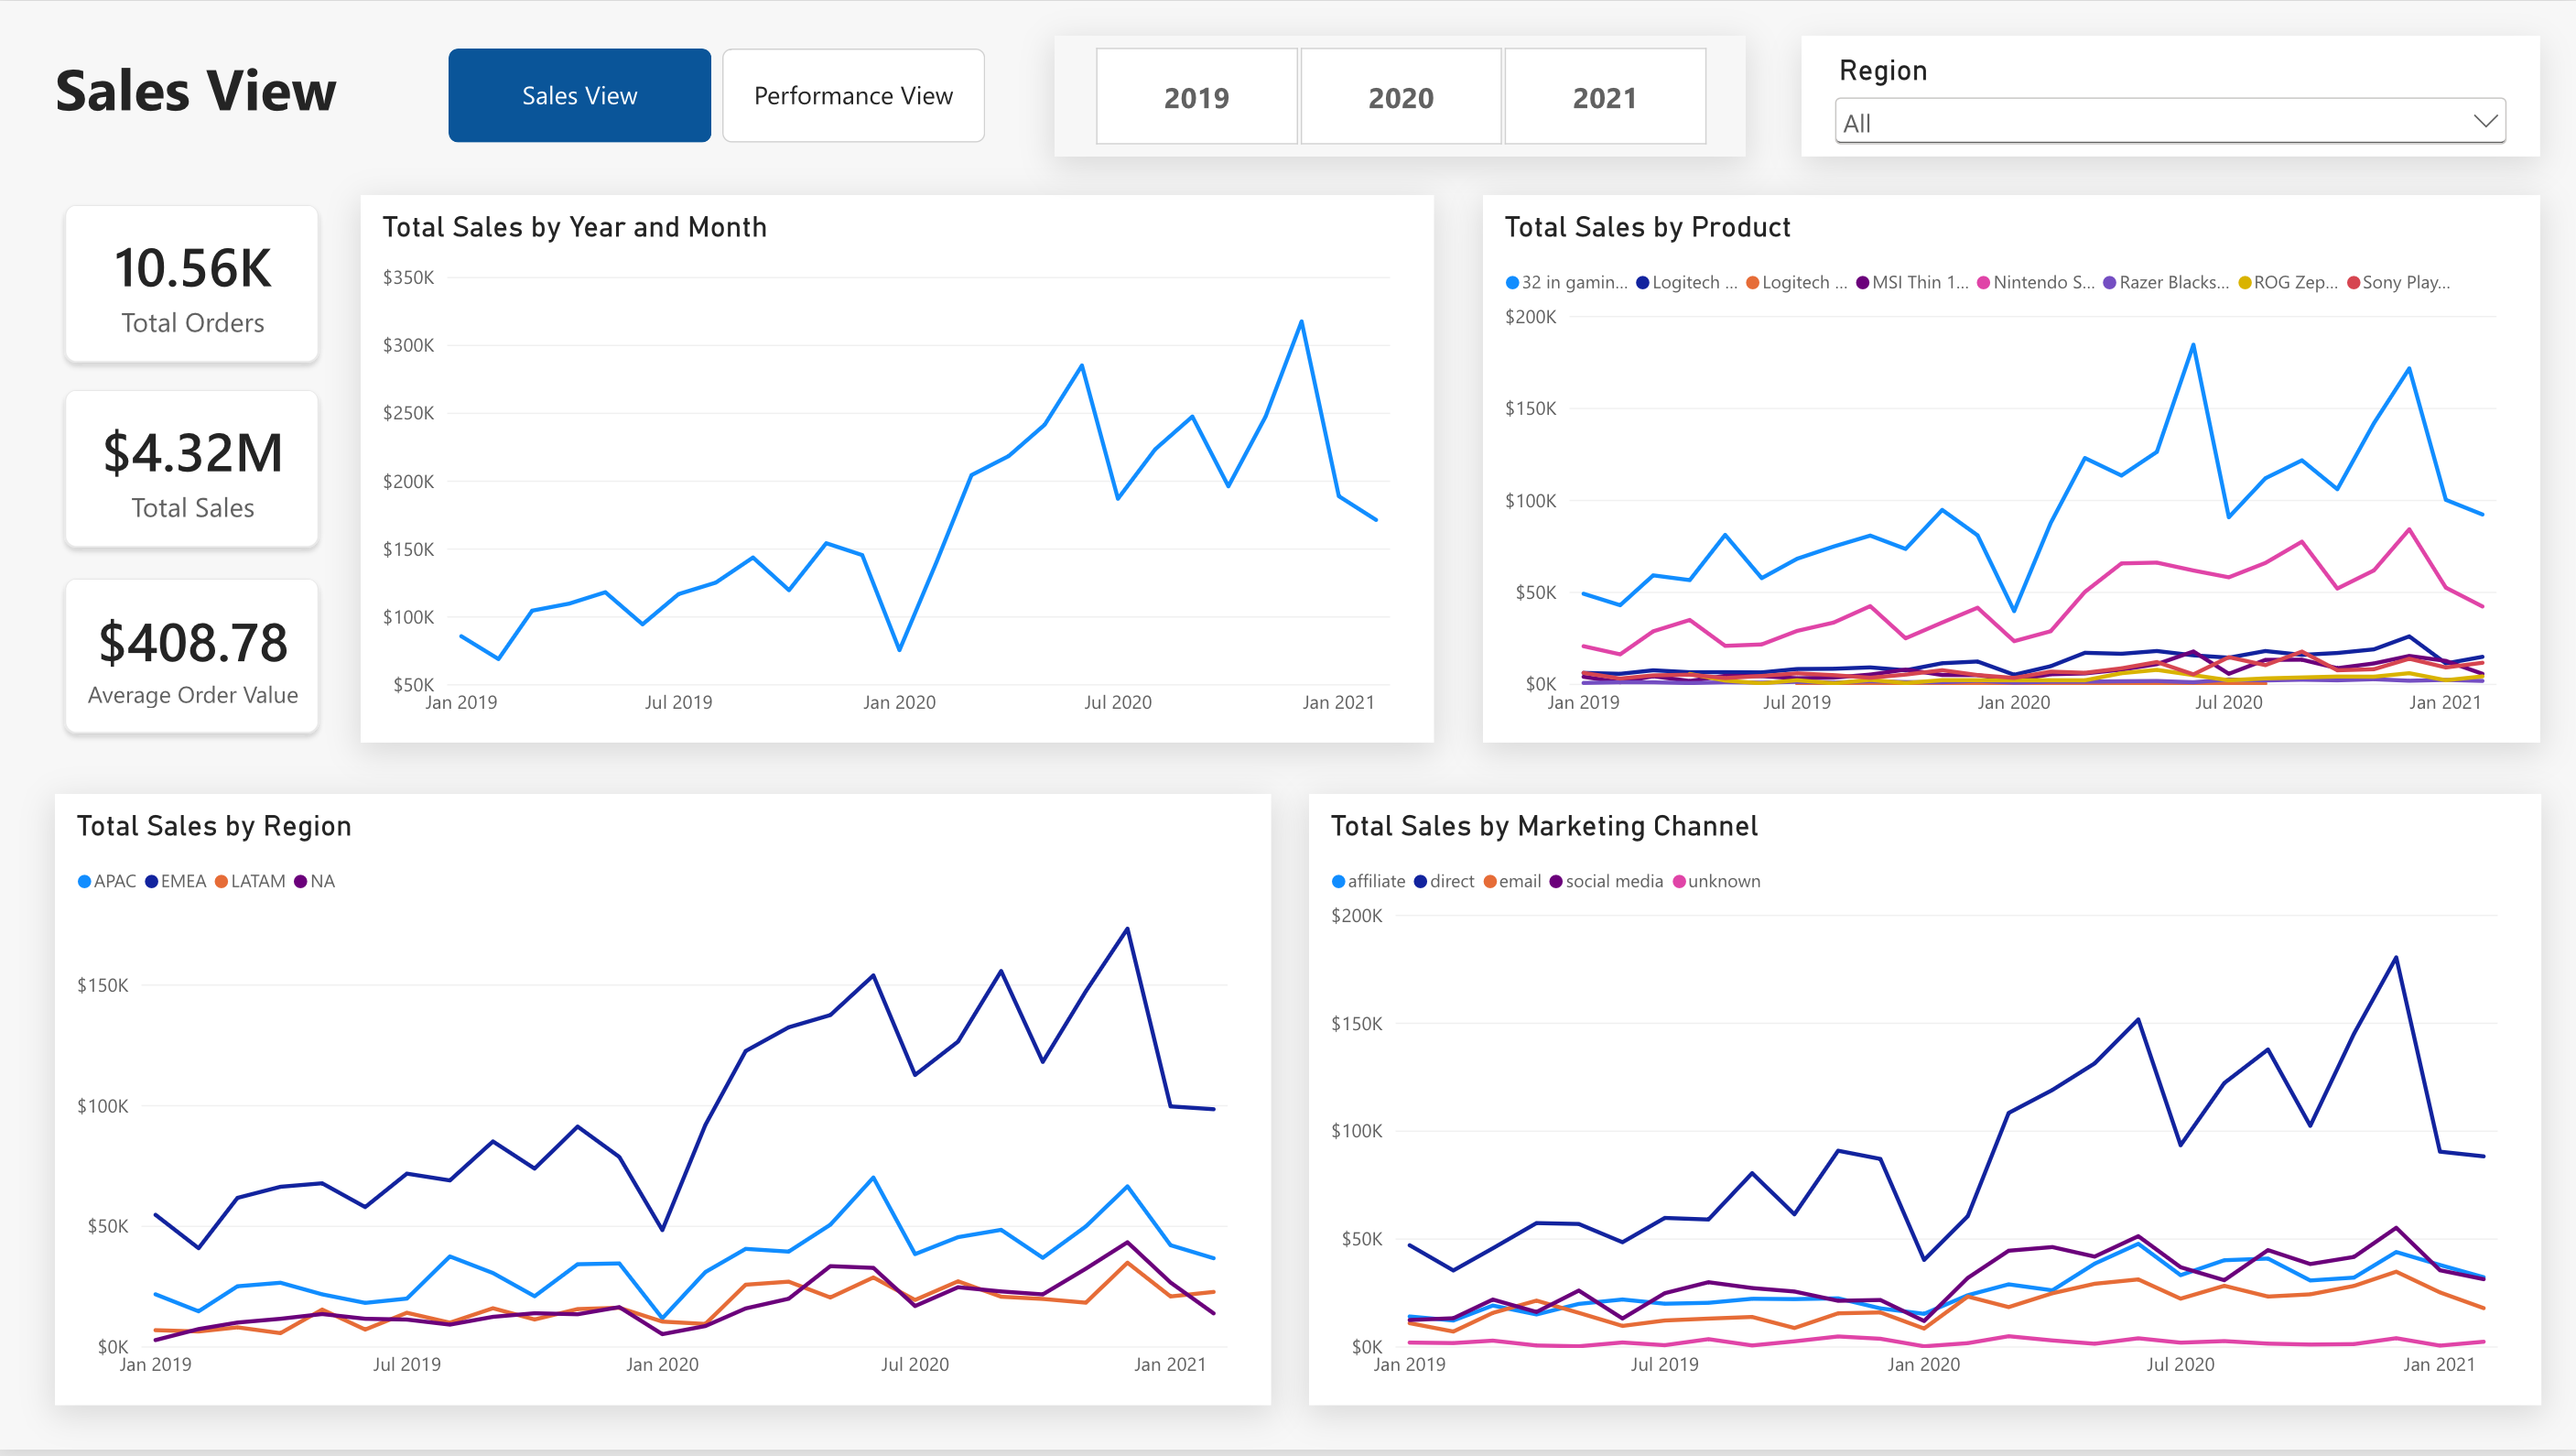

The page's visual inventory and layout, read from the dashboard file:
{"tool":"powerbi","page":{"name":"Sales View","canvas":[1920,1080],"ordinal":0},"visuals":[{"type":"lineChart","fields":{"Category":["orders.purchase_date_cleaned.Variation.Date Hierarchy.Year","orders.purchase_date_cleaned.Variation.Date Hierarchy.Month"],"Y":["Sum(orders.price ($))"]},"box":[268.2,144.8,799.8,408.2],"z":0},{"type":"lineChart","fields":{"Category":["orders.purchase_date_cleaned.Variation.Date Hierarchy.Year","orders.purchase_date_cleaned.Variation.Date Hierarchy.Month"],"Series":["orders.product_name_cleaned"],"Y":["Sum(orders.price ($))"]},"box":[1106,144.8,787.9,408.2],"z":1},{"type":"lineChart","fields":{"Category":["orders.purchase_date_cleaned.Variation.Date Hierarchy.Year","orders.purchase_date_cleaned.Variation.Date Hierarchy.Month"],"Series":["region.region"],"Y":["Sum(orders.price ($))"]},"box":[40.3,591,906.6,455.7],"z":2},{"type":"lineChart","fields":{"Category":["orders.purchase_date_cleaned.Variation.Date Hierarchy.Year","orders.purchase_date_cleaned.Variation.Date Hierarchy.Month"],"Series":["orders.channel_cleaned"],"Y":["Sum(orders.price ($))"]},"box":[975.4,591,918.5,455.7],"z":3},{"type":"textbox","box":[40.3,35.6,294.3,61.7],"z":6},{"type":"cardVisual","fields":{"Data":["Avg(orders.price ($))"]},"box":[40.3,422.4,204.1,130.5],"z":7},{"type":"cardVisual","fields":{"Data":["Sum(orders.price ($))"]},"box":[40.3,282.4,204.1,132.9],"z":8},{"type":"cardVisual","fields":{"Data":["Count(orders.order_id)"]},"box":[40.3,144.8,204.1,132.9],"z":9},{"type":"slicer","title":"Year","fields":{"Values":["orders.purchase_date_cleaned.Variation.Date Hierarchy.Year"]},"box":[785.6,26.1,515,90.2],"z":10},{"type":"slicer","fields":{"Values":["region.region"]},"box":[1343.3,26.1,550.6,90.2],"z":11},{"type":"pageNavigator","box":[334.6,35.6,400,70],"z":12}]}

Visuals, with their boxes in screenshot pixels (x1, y1, x2, y2), scaled from the page's 1920x1080 canvas onto the 2576x1456 screenshot:
lineChart - orders.purchase_date_cleaned.Variation.Date Hierarchy.Year x orders.purchase_date_cleaned.Variation.Date Hierarchy.Month: x1=360 y1=195 x2=1433 y2=745
lineChart - orders.purchase_date_cleaned.Variation.Date Hierarchy.Year x orders.purchase_date_cleaned.Variation.Date Hierarchy.Month: x1=1484 y1=195 x2=2541 y2=745
lineChart - orders.purchase_date_cleaned.Variation.Date Hierarchy.Year x orders.purchase_date_cleaned.Variation.Date Hierarchy.Month: x1=54 y1=797 x2=1271 y2=1411
lineChart - orders.purchase_date_cleaned.Variation.Date Hierarchy.Year x orders.purchase_date_cleaned.Variation.Date Hierarchy.Month: x1=1309 y1=797 x2=2541 y2=1411
textbox: x1=54 y1=48 x2=449 y2=131
cardVisual - Avg(orders.price ($)): x1=54 y1=570 x2=328 y2=745
cardVisual - Sum(orders.price ($)): x1=54 y1=381 x2=328 y2=560
cardVisual - Count(orders.order_id): x1=54 y1=195 x2=328 y2=375
"Year" slicer: x1=1054 y1=35 x2=1745 y2=157
slicer - region.region: x1=1802 y1=35 x2=2541 y2=157
pageNavigator: x1=449 y1=48 x2=986 y2=142
